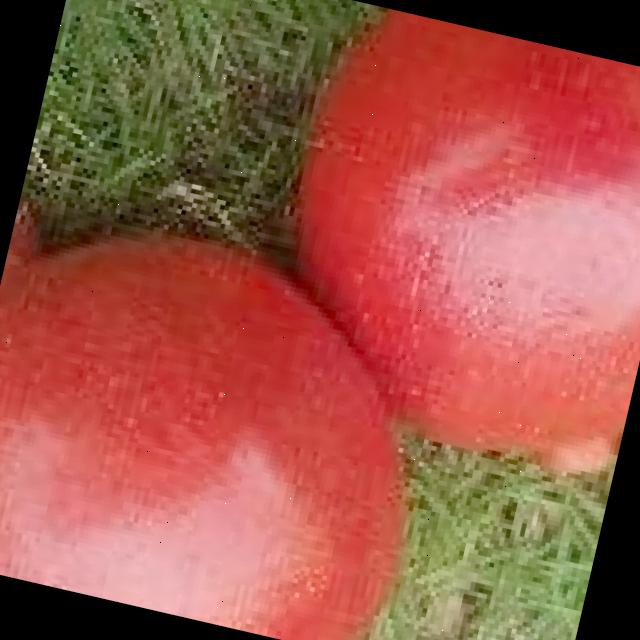Good_Pomegranate-50-60-days: (0, 7, 640, 640)
